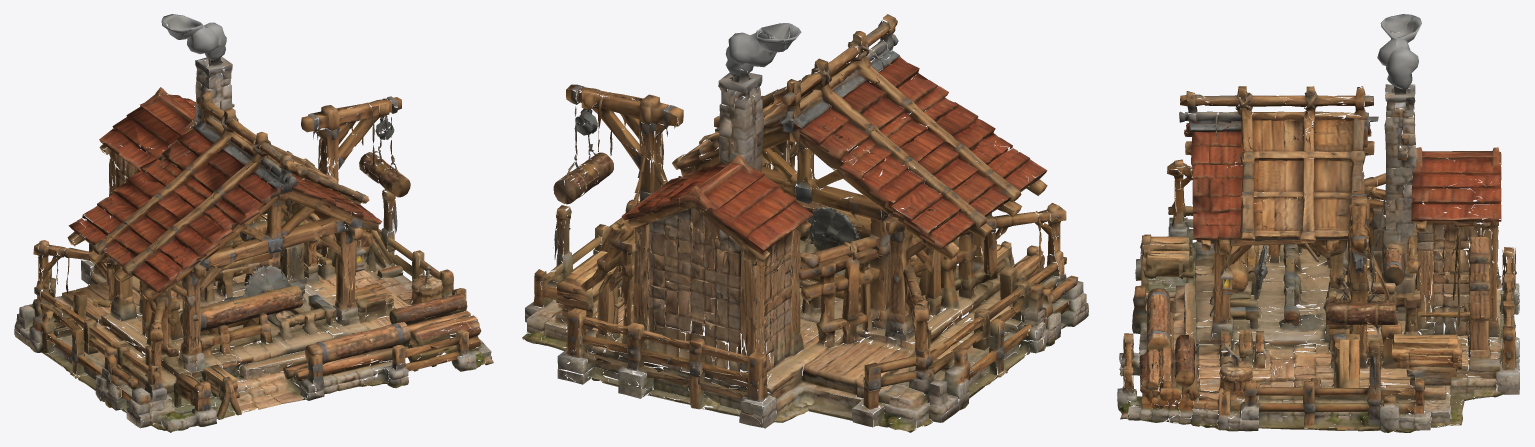
The model's file is Valoria_Authored_Aserradero_v1.glb.
The picture shows the model from 3 angles, left to right: view 1: azimuth 30°, elevation 25°; view 2: azimuth 150°, elevation 25°; view 3: azimuth 270°, elevation 25°; orthographic projection. The views are drawn at different scales.
Visible parts, largest first — view 1: Valoria_Authored_Aserradero_v1; view 2: Valoria_Authored_Aserradero_v1; view 3: Valoria_Authored_Aserradero_v1.
Boxes of the visible parts, x1,y1,x2,y2 form: Valoria_Authored_Aserradero_v1: (14, 14, 493, 432); Valoria_Authored_Aserradero_v1: (522, 14, 1088, 432); Valoria_Authored_Aserradero_v1: (1117, 14, 1519, 432).
Bounding box in the file's own units: 0.9803 × 0.7557 × 0.9027.
4 materials, 4 textured.
